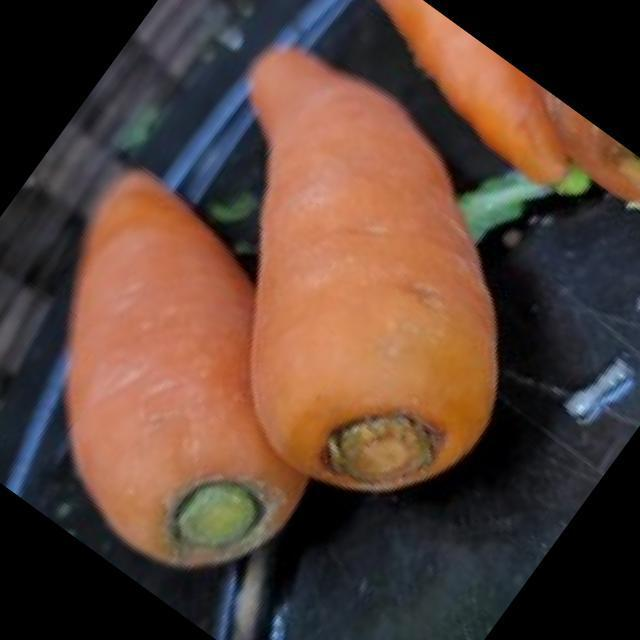Carrot: (254, 52, 496, 489), (66, 172, 306, 567), (381, 0, 569, 183)
